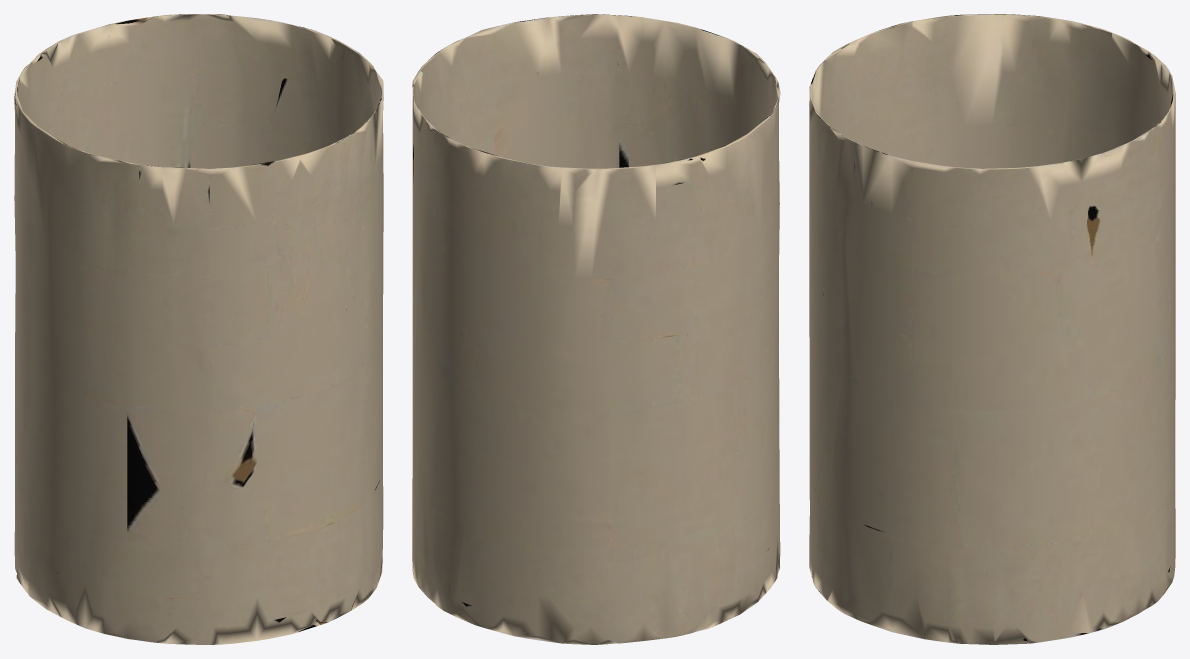
Rendered from mobile.glb.
The picture shows the model from 3 angles, left to right: view 1: azimuth 30°, elevation 25°; view 2: azimuth 150°, elevation 25°; view 3: azimuth 270°, elevation 25°; orthographic projection.
Visible parts, largest first — view 1: ceilinglight; view 2: ceilinglight; view 3: ceilinglight.
Boxes of the visible parts, bbox=[...] form: ceilinglight: bbox=[14, 14, 383, 644]; ceilinglight: bbox=[412, 14, 780, 644]; ceilinglight: bbox=[809, 14, 1175, 644].
Bounding box in the file's own units: 0.4499 × 0.6384 × 0.4453.
1 material, 1 textured.
